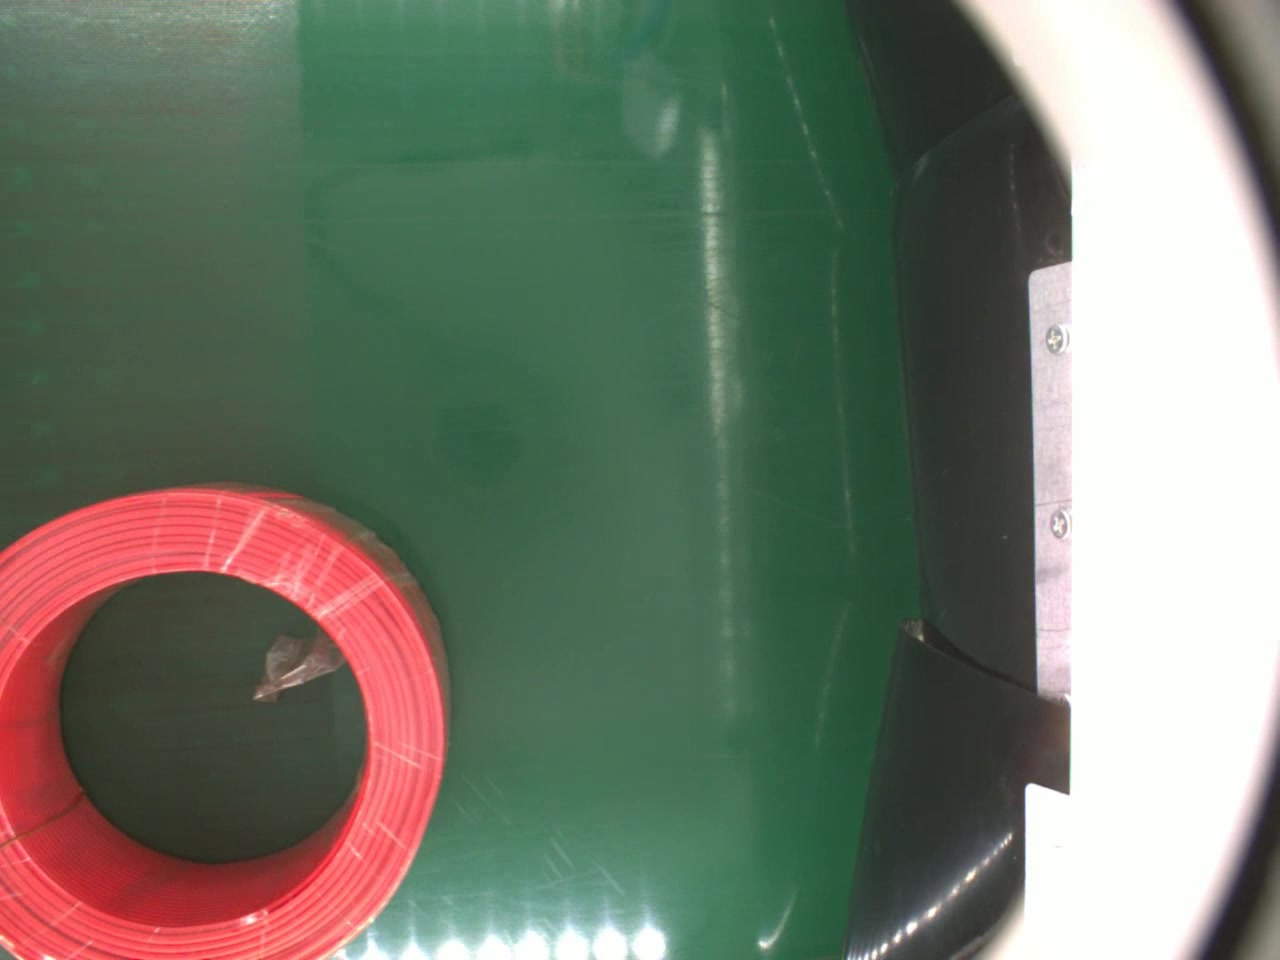red: (0, 480, 456, 960)
